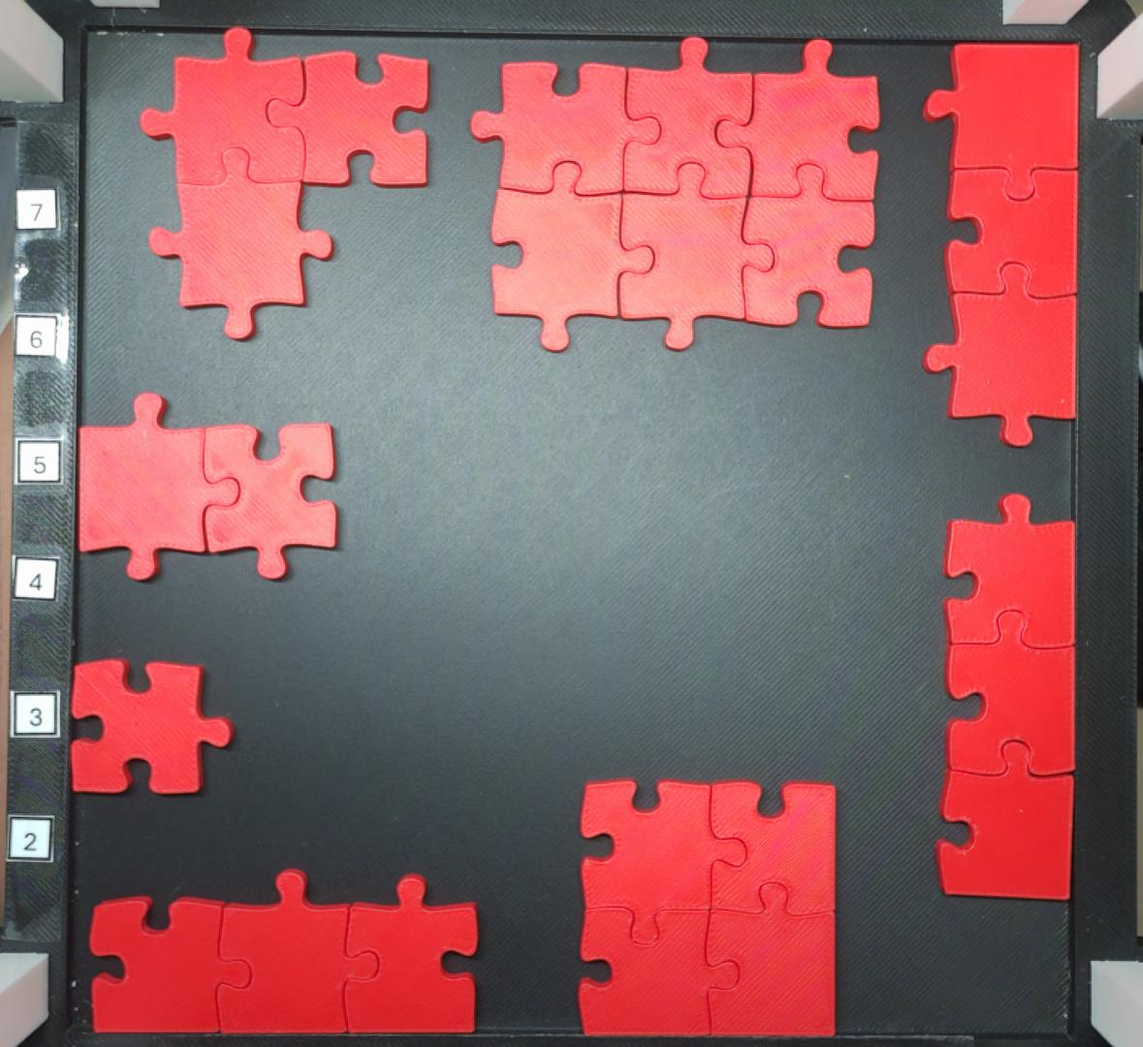p_1: (68, 655, 237, 796)
p_2: (73, 391, 339, 583)
p_3: (141, 24, 431, 339), (88, 866, 480, 1037), (920, 39, 1081, 450), (933, 490, 1079, 904)
p_4: (576, 777, 838, 1039)
p_m: (468, 35, 882, 355)
